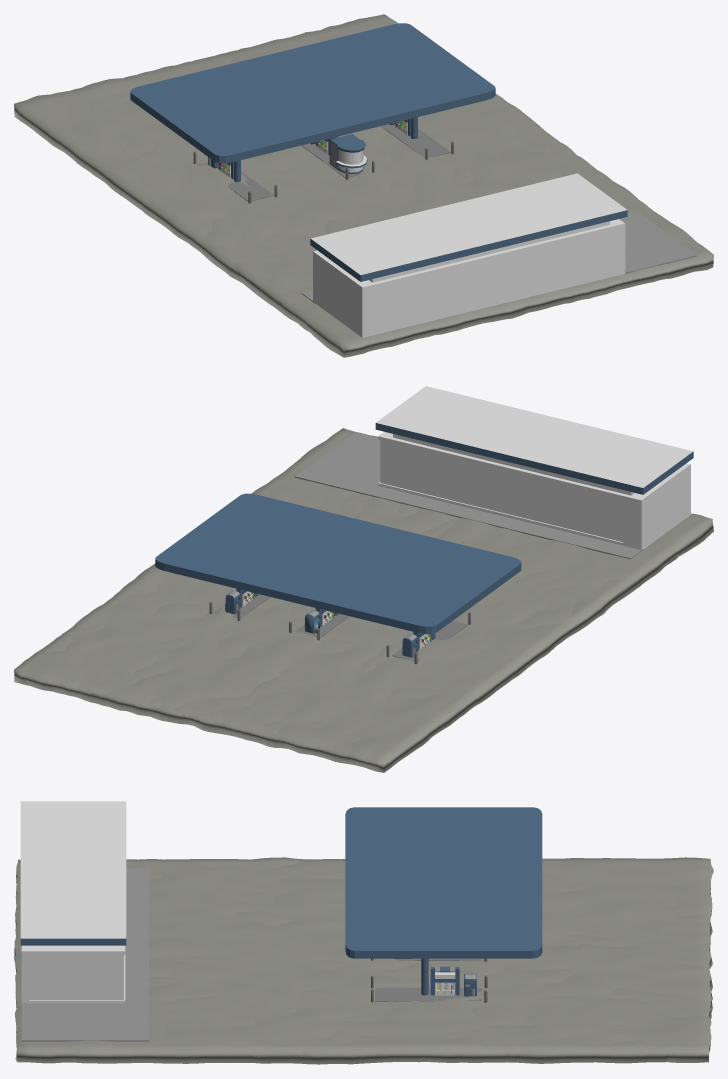
File: Gas Station (3).fbx
3 renders of one model, top to bottom at view 1: azimuth 30°, elevation 25°; view 2: azimuth 150°, elevation 25°; view 3: azimuth 270°, elevation 25°, orthographic. The views are drawn at different scales.
Parts seen in each view (by area): view 1: Plane, Cube.008, Plane.001, Cube.012, Cube.010, Cube.023, Cube.014; view 2: Plane, Cube.008, Plane.001, Cube.012; view 3: Plane, Plane.001, Cube.008, Cube.012, Cube.023.
Boxes of the visible parts, x1,y1,x2,y2 form: Plane: [14, 14, 713, 357]; Cube.008: [310, 173, 627, 337]; Plane.001: [130, 23, 495, 163]; Cube.012: [301, 211, 696, 303]; Cube.010: [329, 134, 367, 174]; Cube.023: [381, 124, 450, 157]; Cube.014: [198, 162, 273, 201]; Plane: [14, 428, 713, 772]; Cube.008: [375, 386, 693, 549]; Plane.001: [155, 493, 521, 634]; Cube.012: [294, 432, 643, 559]; Plane: [14, 857, 713, 1064]; Plane.001: [345, 807, 542, 958]; Cube.008: [20, 801, 126, 1003]; Cube.012: [22, 868, 148, 1041]; Cube.023: [375, 987, 481, 1001].
Bounding box in the file's own units: 8039 × 1623 × 12378.
